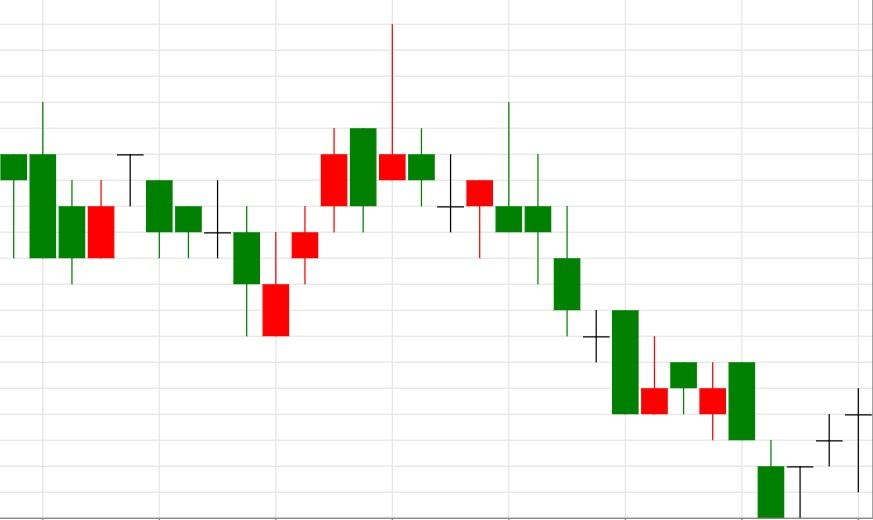bearish_engulfing_fall: (261, 128, 378, 336)
three_white_soldiers_rise: (116, 126, 349, 337)
